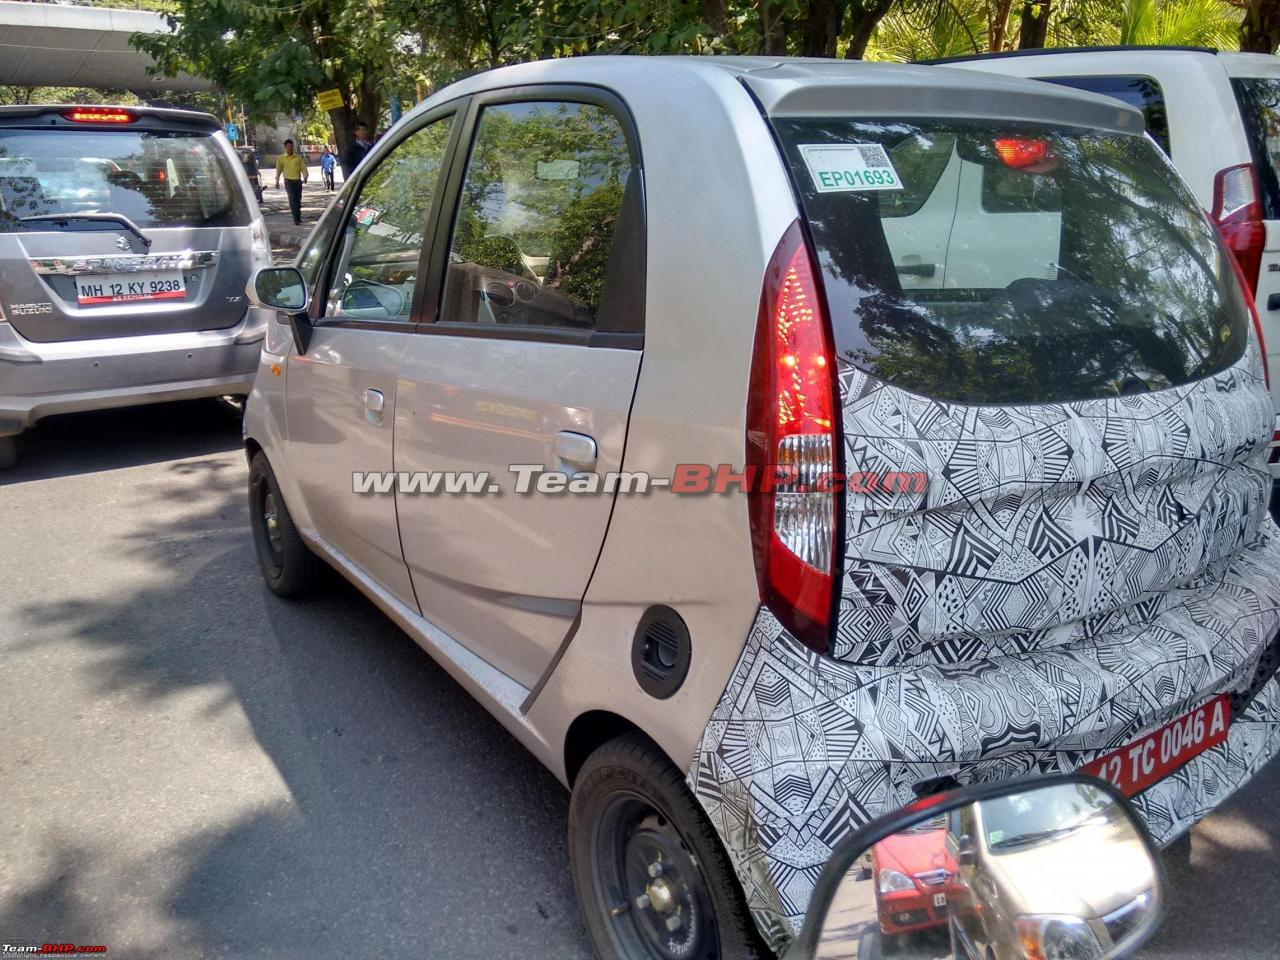Nano: (244, 44, 1280, 960)
